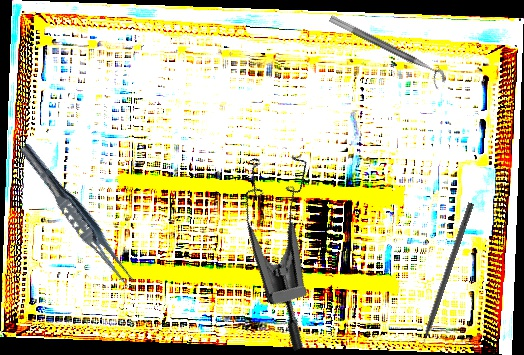Fixation Ring: (323, 14, 450, 91)
Hook Surgical: (414, 201, 475, 355)
Speculum: (208, 138, 379, 353)
Tissue Forceps: (13, 140, 141, 291)
